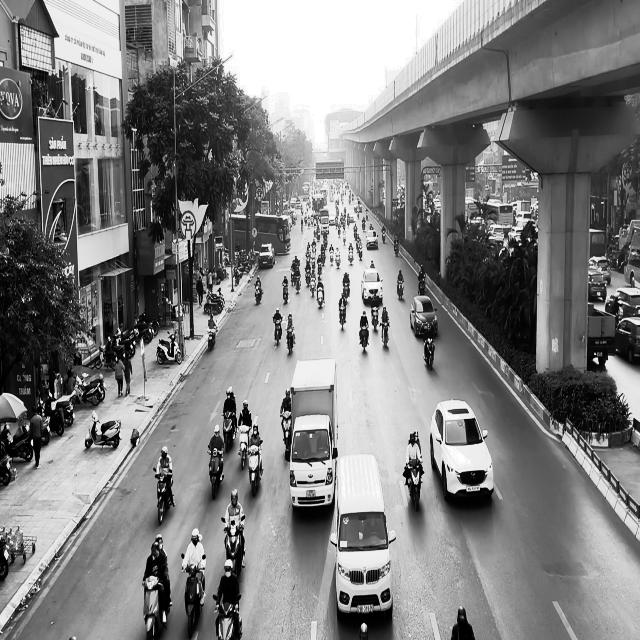car: (330, 454, 396, 620), (429, 398, 494, 502), (410, 295, 438, 337), (361, 268, 383, 302), (258, 242, 275, 268), (366, 230, 378, 249)
motorbike: (180, 552, 206, 638), (142, 574, 169, 638), (221, 516, 245, 577), (85, 410, 121, 449), (212, 594, 242, 640), (153, 467, 175, 524), (405, 458, 423, 511), (156, 328, 182, 364), (207, 447, 224, 500), (248, 440, 264, 496), (280, 411, 292, 461), (222, 411, 236, 452), (238, 425, 251, 469), (423, 337, 435, 370), (273, 316, 283, 346), (206, 326, 218, 350), (380, 320, 390, 348), (358, 324, 368, 351), (286, 327, 295, 354), (371, 306, 379, 330), (316, 284, 324, 308), (339, 304, 346, 330), (254, 284, 263, 304), (418, 273, 426, 295), (282, 281, 289, 304), (396, 280, 404, 300), (356, 240, 363, 260), (343, 282, 350, 302), (348, 248, 354, 265), (393, 240, 399, 256)
